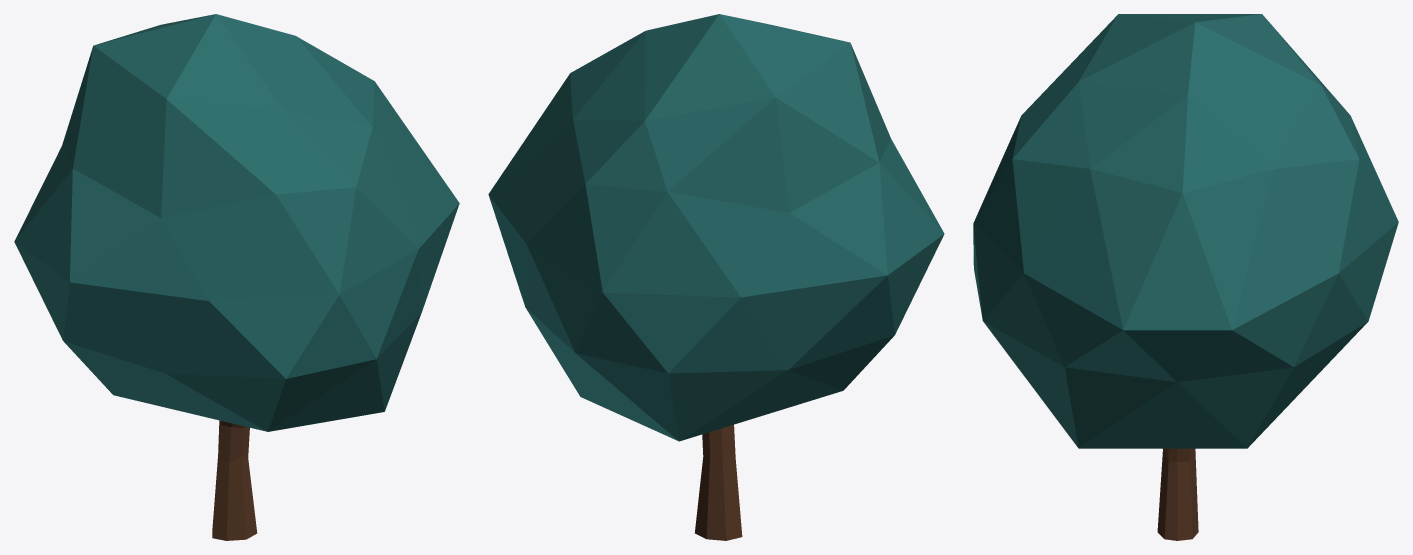
Rendered from Tree_58_Blue.fbx.
3 renders of one model, left to right at view 1: azimuth 30°, elevation 25°; view 2: azimuth 150°, elevation 25°; view 3: azimuth 270°, elevation 25°, orthographic. The views are drawn at different scales.
Parts seen in each view (by area): view 1: Tree_58_Blue_Part_1, Tree_58_Blue_Part_2; view 2: Tree_58_Blue_Part_1, Tree_58_Blue_Part_2; view 3: Tree_58_Blue_Part_1, Tree_58_Blue_Part_2.
Part boxes in pixels (x1,y1,x2,y2): Tree_58_Blue_Part_1: (14,14,459,431); Tree_58_Blue_Part_2: (212,420,257,540); Tree_58_Blue_Part_1: (488,14,944,441); Tree_58_Blue_Part_2: (695,424,742,540); Tree_58_Blue_Part_1: (973,14,1398,448); Tree_58_Blue_Part_2: (1157,448,1198,540).
Size of the model in its own units: 627 by 791 by 604.
